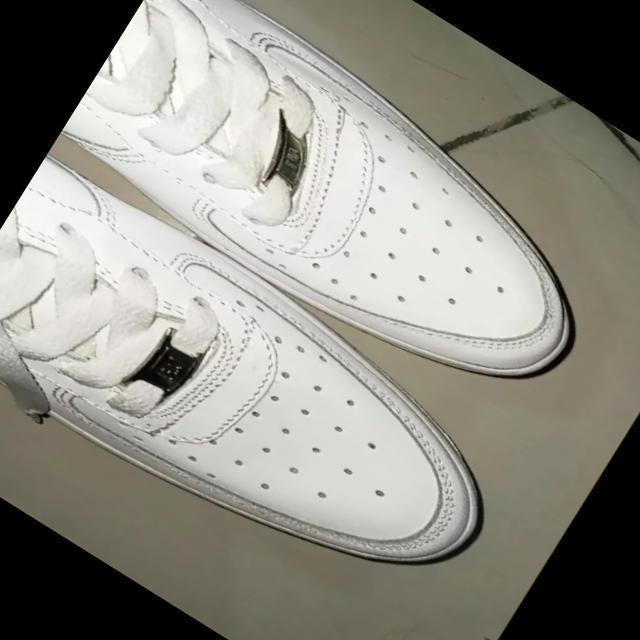nike fake air force: (0, 145, 534, 640), (53, 0, 636, 437)
